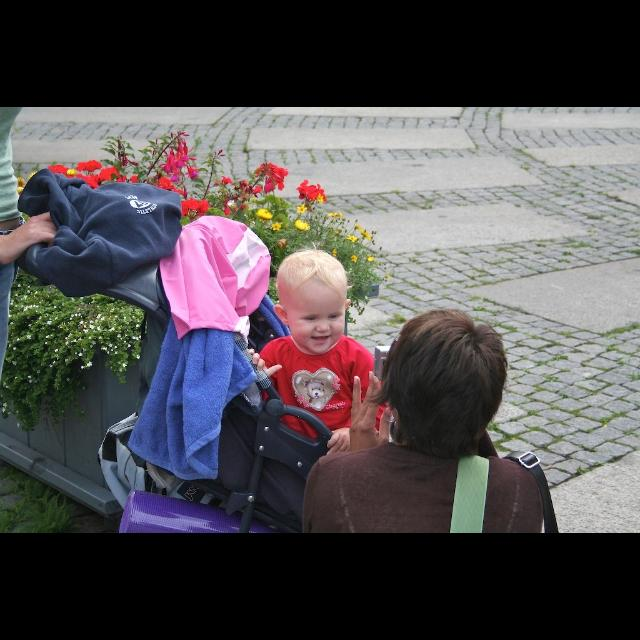Flower: (160, 144, 196, 176), (74, 164, 118, 186), (264, 163, 288, 193), (182, 197, 212, 220), (156, 175, 186, 193), (298, 180, 324, 200), (77, 160, 103, 170), (47, 164, 69, 172), (258, 208, 272, 220), (296, 220, 308, 232), (362, 230, 371, 240), (271, 222, 281, 230), (350, 253, 358, 261), (347, 236, 353, 240)
